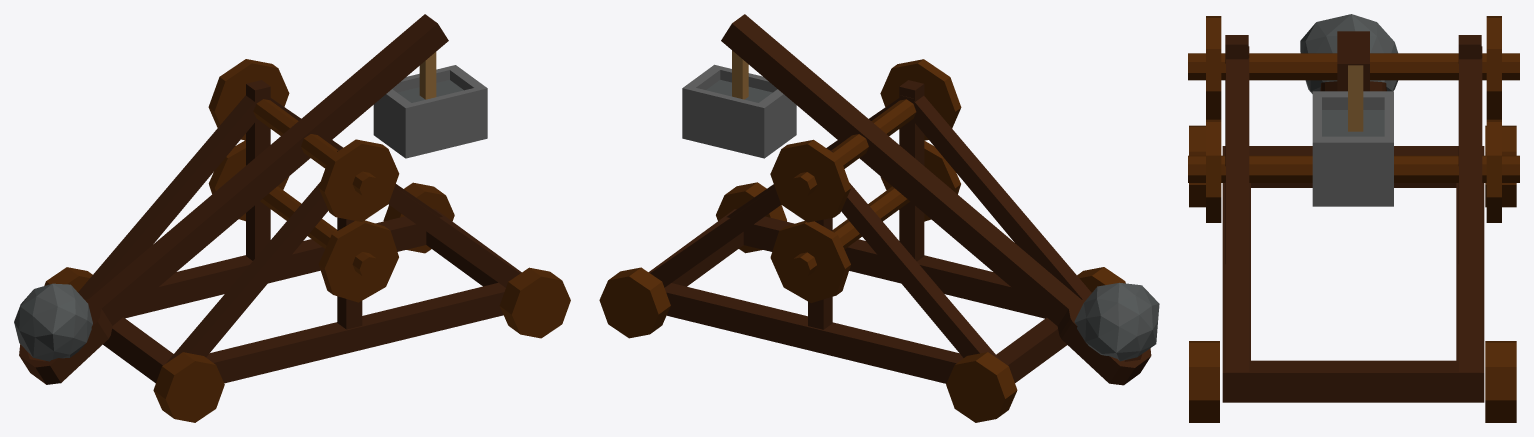
Rendered from CatapultV2.fbx.
3 views of the same model, side by side, from view 1: azimuth 30°, elevation 25°; view 2: azimuth 150°, elevation 25°; view 3: azimuth 270°, elevation 25° (orthographic). The views are drawn at different scales.
Parts seen in each view (by area): view 1: Cube.4077, Cube.4079, Cylinder.378, Cube.4080, Cylinder.392, Cylinder.387, Icosphere.140, Cylinder.386; view 2: Cube.4077, Cube.4079, Cylinder.378, Cube.4080, Cylinder.392, Icosphere.140, Cylinder.387, Cylinder.386; view 3: Cube.4077, Cube.4080, Cylinder.378, Cylinder.392, Cylinder.387, Icosphere.140, Cube.4079, Cylinder.386.
Boxes of the visible parts, bbox=[...] form: Cube.4077: bbox=[78, 80, 521, 383]; Cube.4079: bbox=[19, 14, 448, 384]; Cylinder.378: bbox=[208, 59, 399, 221]; Cube.4080: bbox=[373, 52, 487, 158]; Cylinder.392: bbox=[208, 140, 398, 302]; Cylinder.387: bbox=[383, 182, 570, 338]; Icosphere.140: bbox=[14, 283, 92, 361]; Cylinder.386: bbox=[44, 267, 224, 422]; Cube.4077: bbox=[648, 80, 1091, 383]; Cube.4079: bbox=[721, 14, 1151, 385]; Cylinder.378: bbox=[770, 59, 961, 222]; Cube.4080: bbox=[682, 50, 796, 158]; Cylinder.392: bbox=[770, 141, 960, 302]; Icosphere.140: bbox=[1074, 282, 1159, 361]; Cylinder.387: bbox=[599, 182, 786, 338]; Cylinder.386: bbox=[946, 267, 1125, 422]; Cube.4077: bbox=[1222, 35, 1484, 402]; Cube.4080: bbox=[1312, 65, 1393, 206]; Cylinder.378: bbox=[1188, 16, 1519, 119]; Cylinder.392: bbox=[1188, 119, 1519, 222]; Cylinder.387: bbox=[1189, 341, 1516, 422]; Icosphere.140: bbox=[1300, 14, 1398, 93]; Cube.4079: bbox=[1320, 31, 1386, 91]; Cylinder.386: bbox=[1189, 125, 1516, 207].
Size of the model in its own units: 174 by 96.44 by 80.15.
